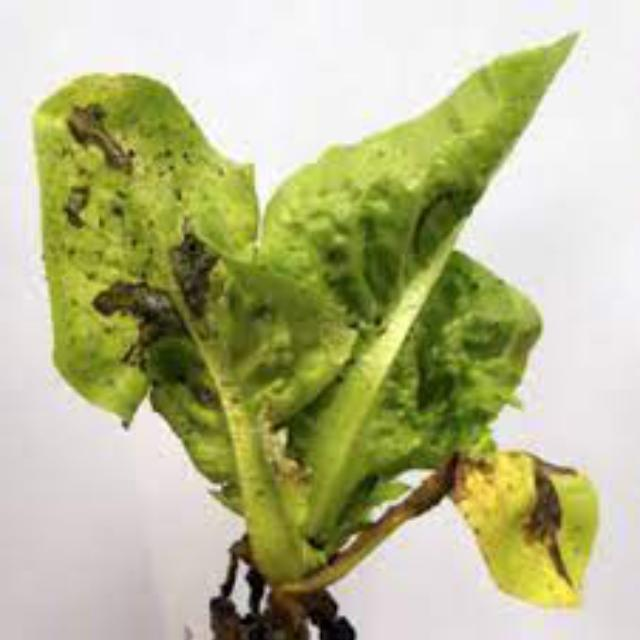Lettuce - Anthracnose: (18, 37, 286, 473), (452, 427, 640, 635), (452, 636, 640, 640)
